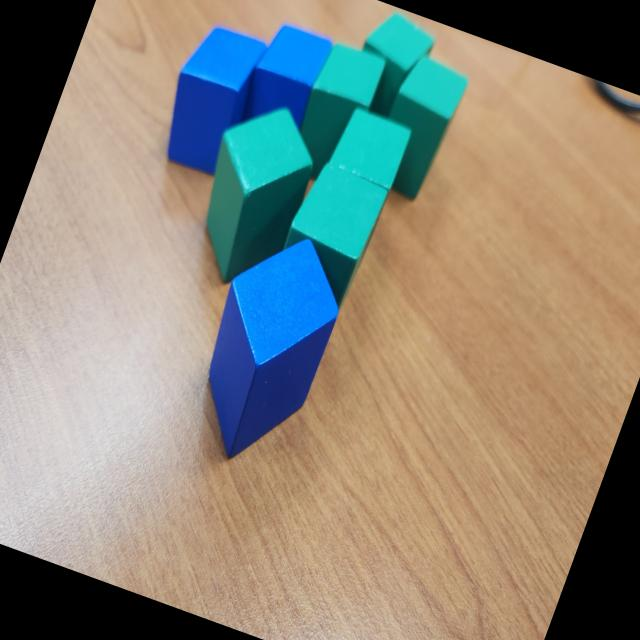blue: (172, 220, 360, 480), (149, 17, 274, 182), (233, 17, 336, 146)
green: (176, 89, 333, 300), (299, 98, 416, 265), (266, 162, 389, 318), (282, 35, 391, 191), (366, 51, 474, 205), (341, 2, 442, 126)
